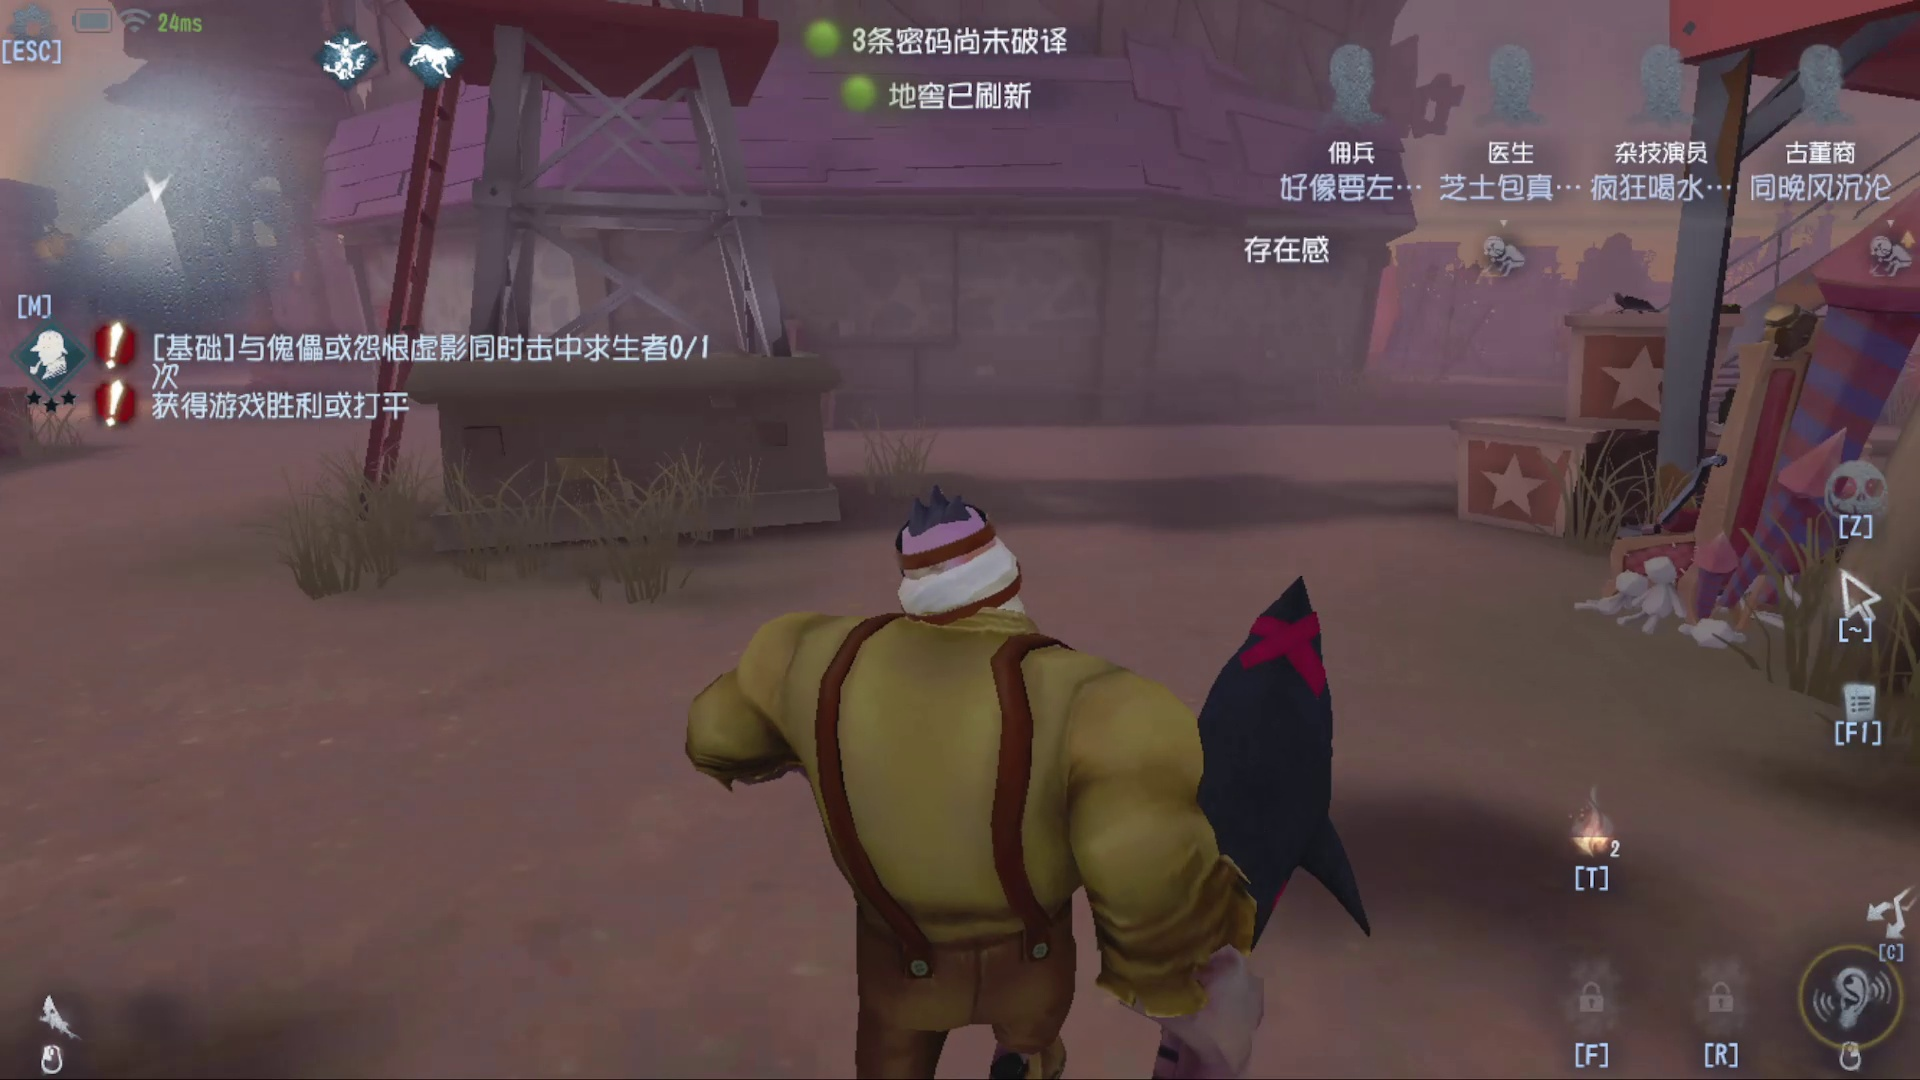狂欢之椅: (1578, 231, 1920, 629)
